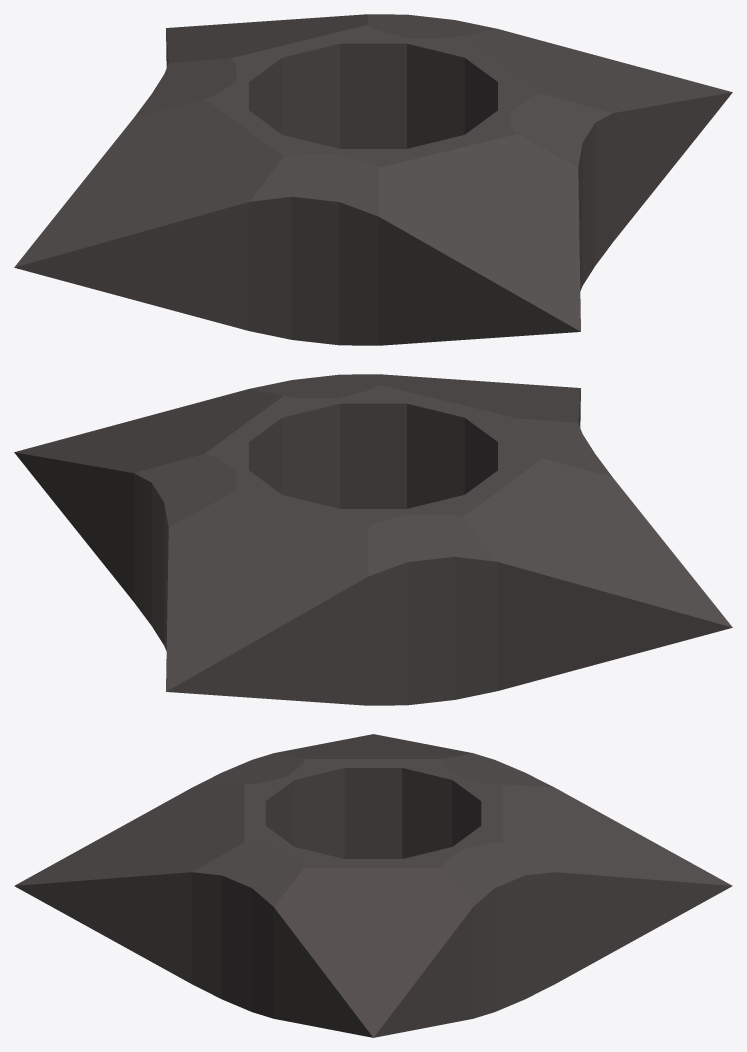
File: Shuriken_3DModel_4.fbx
3 renders of one model, top to bottom at view 1: azimuth 30°, elevation 25°; view 2: azimuth 150°, elevation 25°; view 3: azimuth 270°, elevation 25°, orthographic. The views are drawn at different scales.
Visible parts, largest first — view 1: Shuriken; view 2: Shuriken; view 3: Shuriken.
Boxes of the visible parts, <box> form: Shuriken: <box>14,14,732,345</box>; Shuriken: <box>14,374,732,705</box>; Shuriken: <box>14,734,732,1037</box>.
Bounding box in the file's own units: 0.0393 × 0.00875 × 0.0393.
